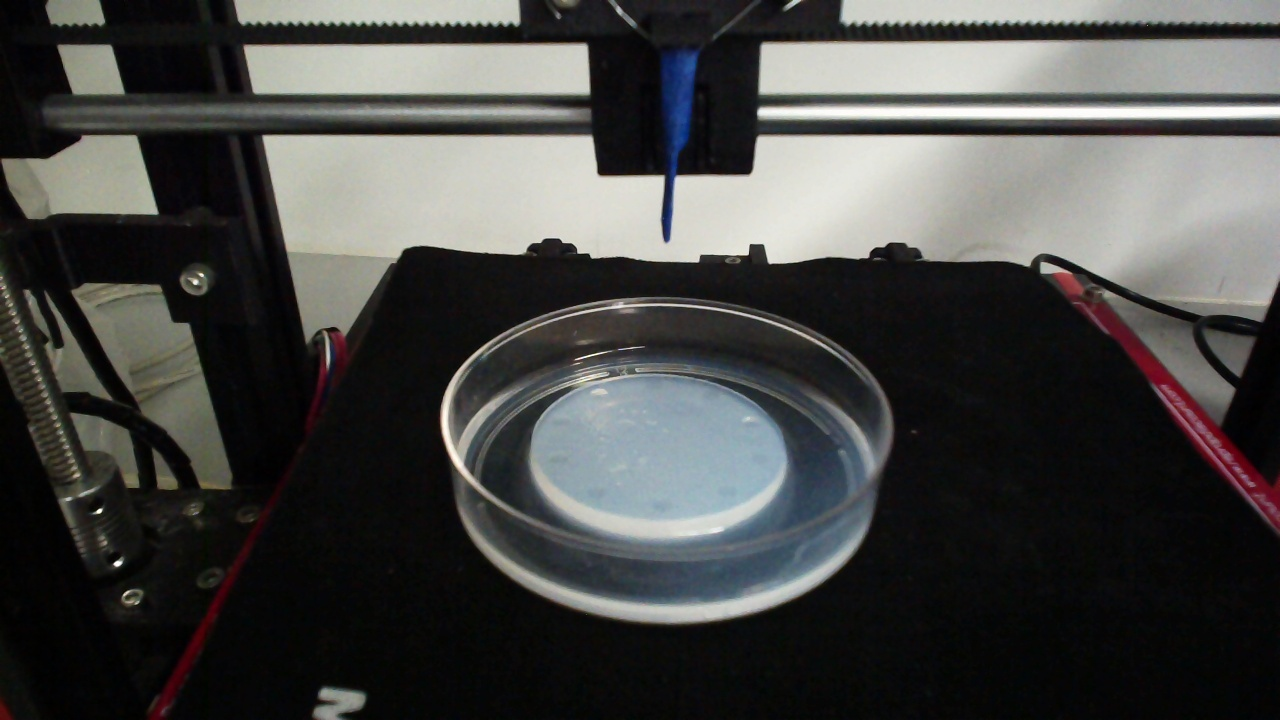groove: (748, 451, 770, 467), (643, 377, 665, 393), (717, 483, 738, 499), (585, 485, 606, 501), (549, 414, 570, 430), (651, 499, 673, 514), (740, 416, 762, 430), (587, 386, 609, 400), (699, 389, 721, 403), (547, 453, 569, 466)
needle: (660, 50, 697, 242)
